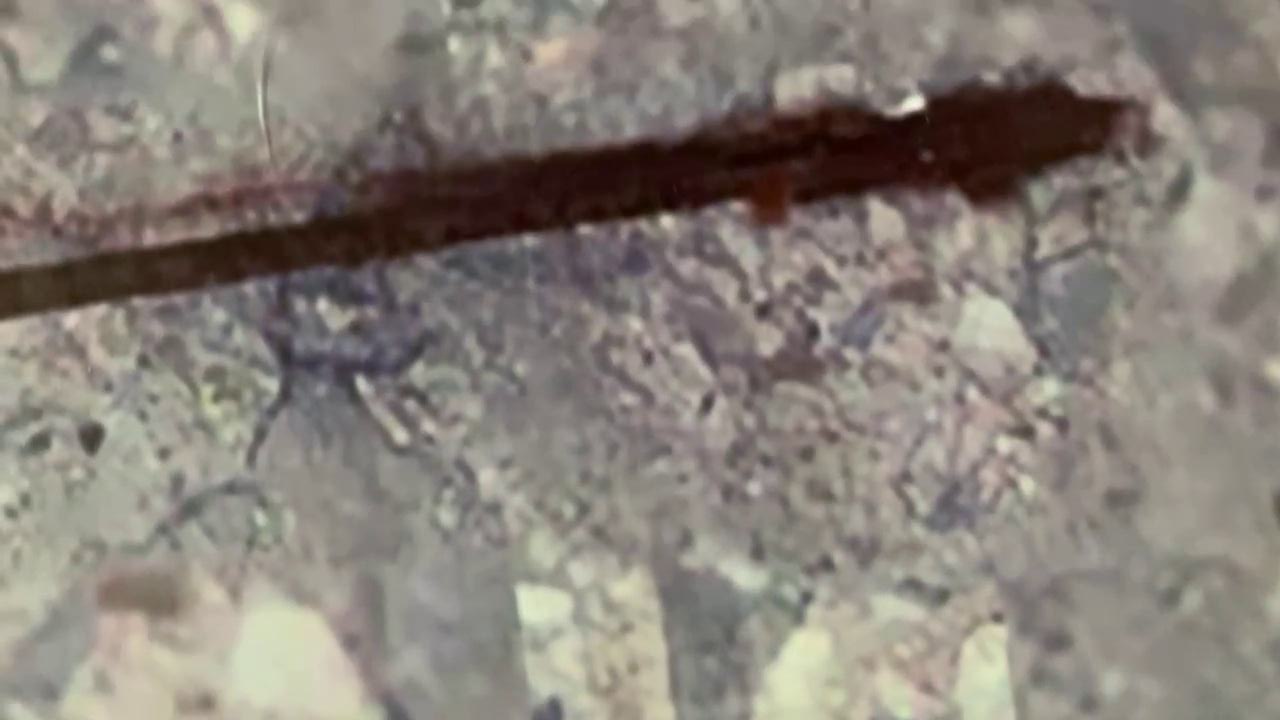Exposed reinforcement: (1, 77, 1139, 322)
